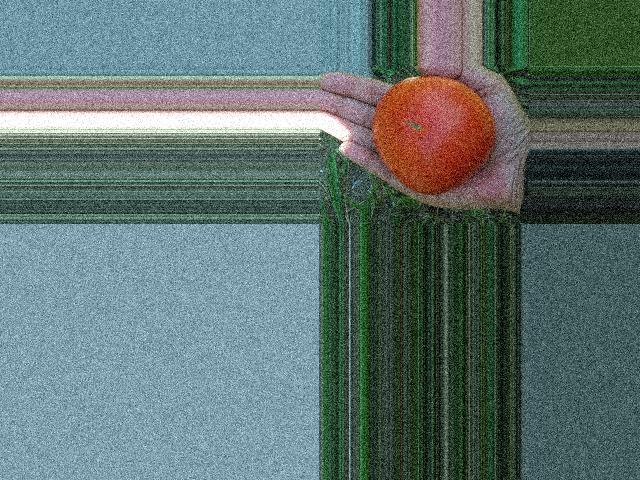tomato: (372, 76, 493, 195)
